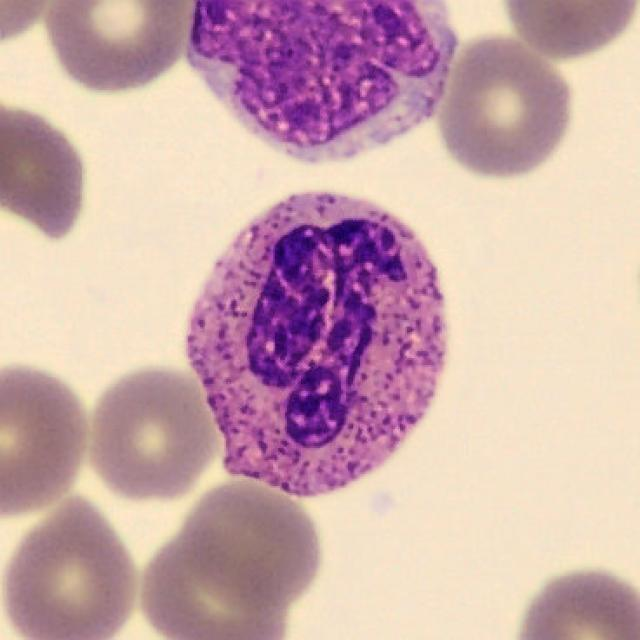Neutrofilo segmentado: (184, 194, 447, 498)
